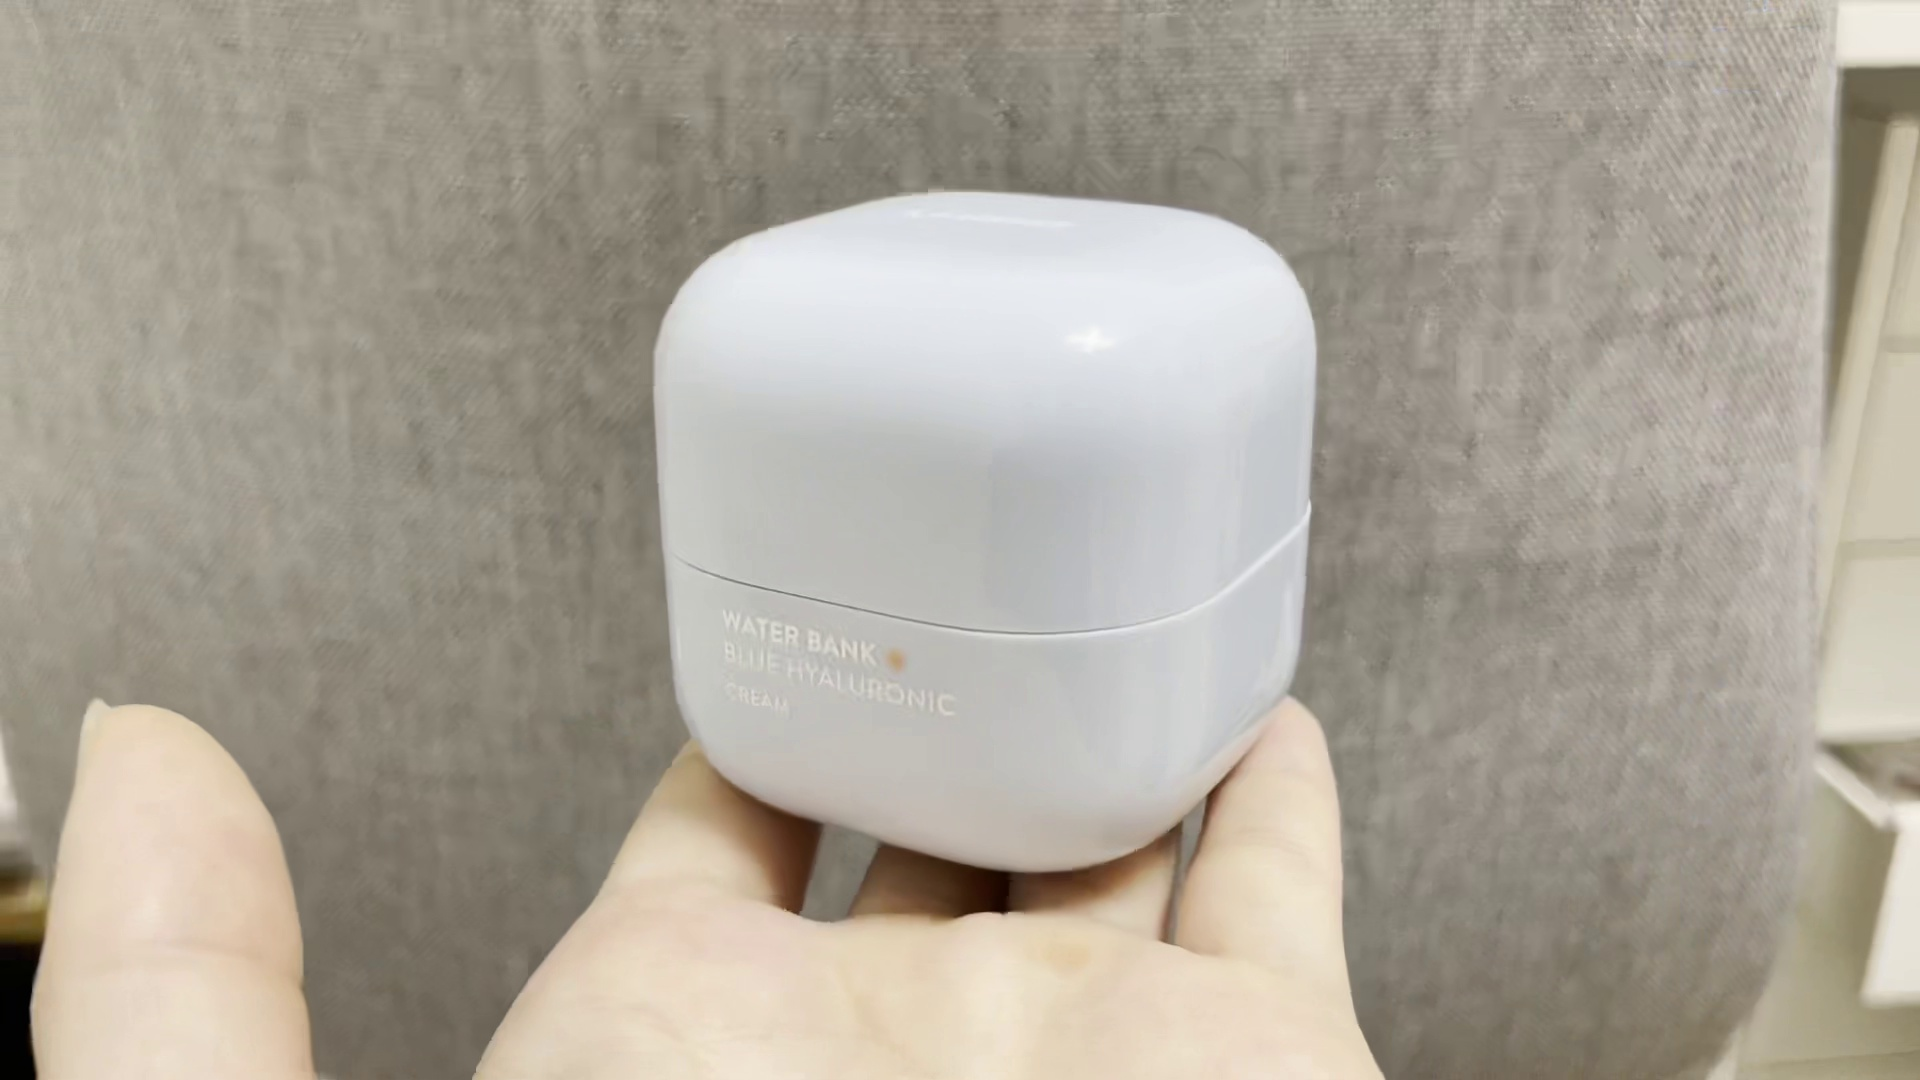cream: (655, 185, 1309, 864)
